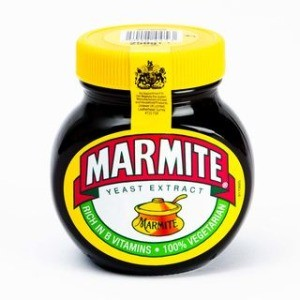yeast spread_brain food: (46, 91, 258, 245)
